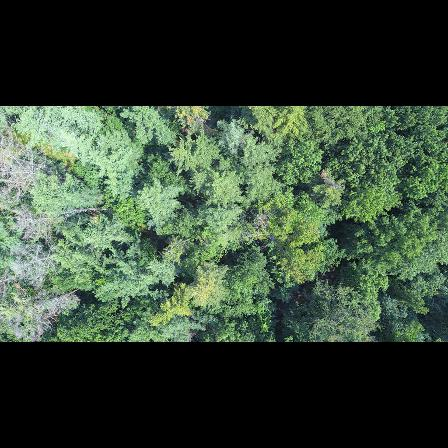Dead: (23, 284, 87, 336), (5, 240, 66, 278), (0, 136, 54, 173), (0, 171, 45, 192)
